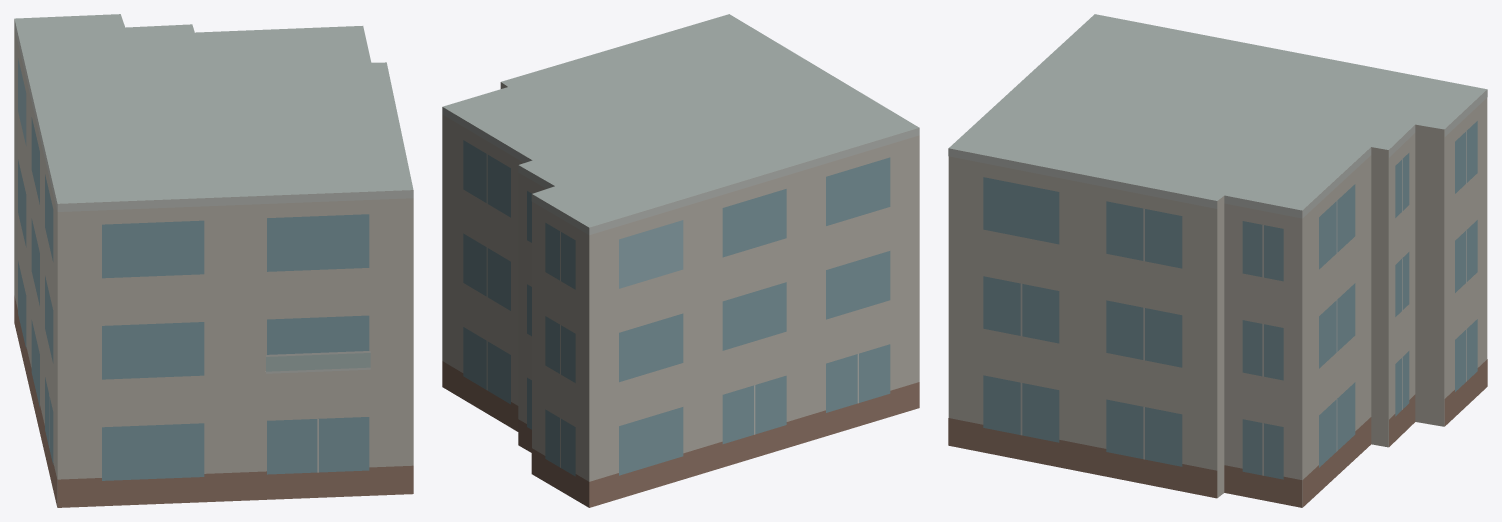
The model's file is survey-upis-32678936.glb.
3 renders of one model, left to right at view 1: azimuth 30°, elevation 25°; view 2: azimuth 150°, elevation 25°; view 3: azimuth 270°, elevation 25°, orthographic. The views are drawn at different scales.
Parts seen in each view (by area): view 1: survey-upis-32678936.tmp; view 2: survey-upis-32678936.tmp; view 3: survey-upis-32678936.tmp.
Boxes of the visible parts, x1,y1,x2,y2 form: survey-upis-32678936.tmp: (14, 14, 413, 507); survey-upis-32678936.tmp: (442, 14, 919, 507); survey-upis-32678936.tmp: (948, 14, 1487, 507).
Size of the model in its own units: 12.84 by 9.05 by 14.88.
